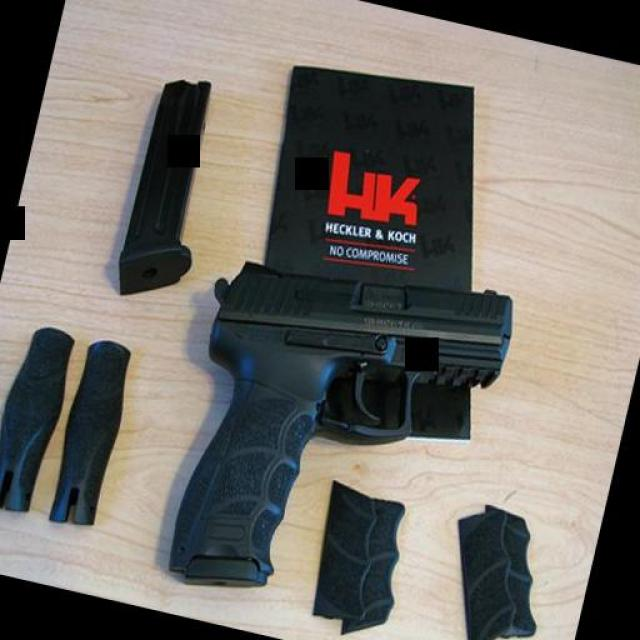gun: (142, 220, 522, 631)
